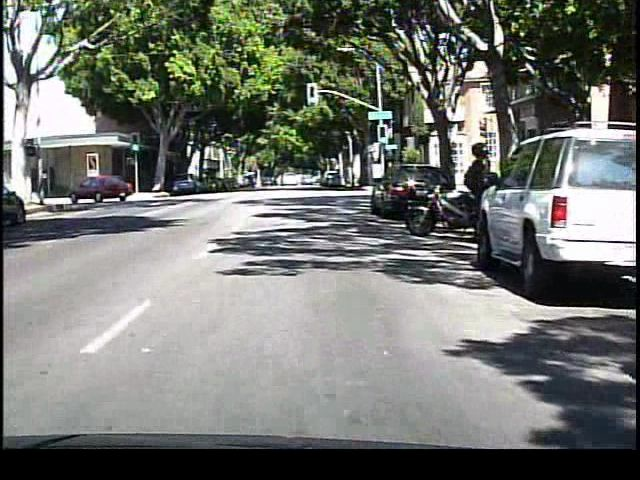person: (457, 134, 500, 246)
